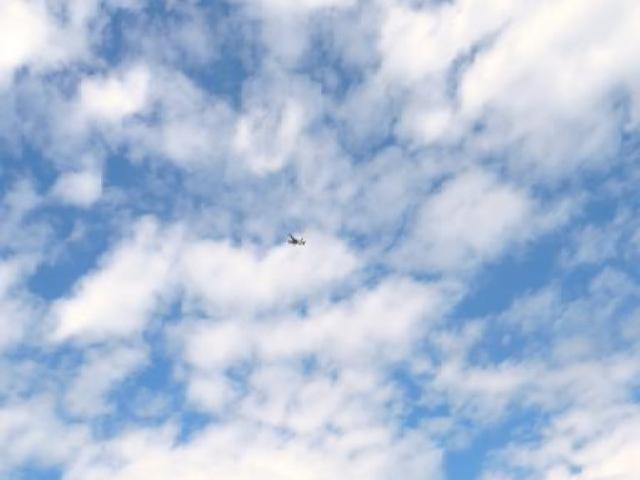uav: (284, 232, 310, 248)
